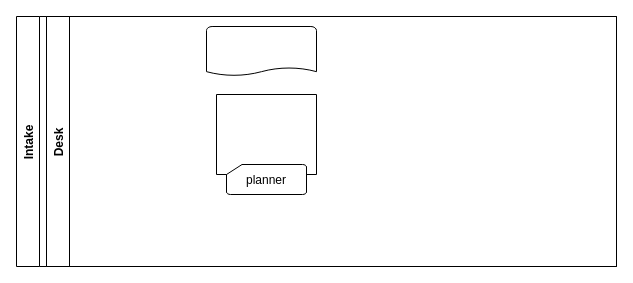
This 633x283 diagram has some shape labels left out. The shapes that lost their labels are listed below. From the top down, each one's centre as x and y in pixels, then its label:
point 261,51: Manual
point 266,134: Review
